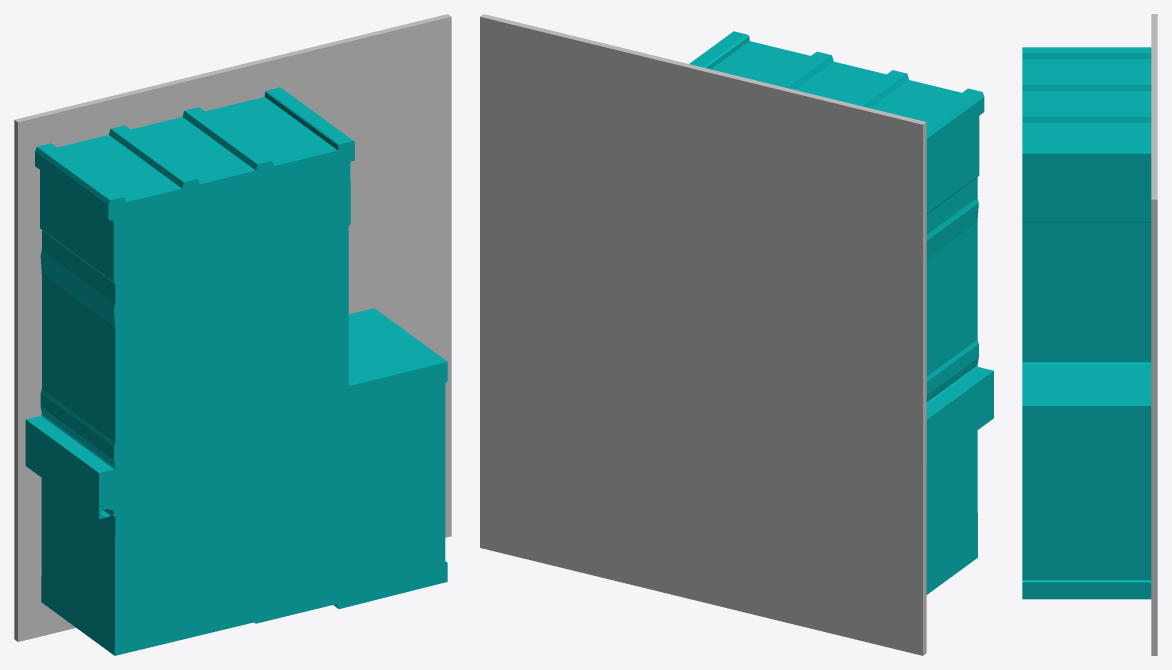
3 views of the same model, side by side, from view 1: azimuth 30°, elevation 25°; view 2: azimuth 150°, elevation 25°; view 3: azimuth 270°, elevation 25° (orthographic). The views are drawn at different scales.
Visible parts, largest first — view 1: world; view 2: world; view 3: world.
Boxes of the visible parts, box(x1,y1,x2,y2) form: world: box(14, 14, 451, 655); world: box(480, 14, 993, 655); world: box(1022, 14, 1157, 655).
Size of the model in its own units: 10.23 by 11.72 by 3.15.
